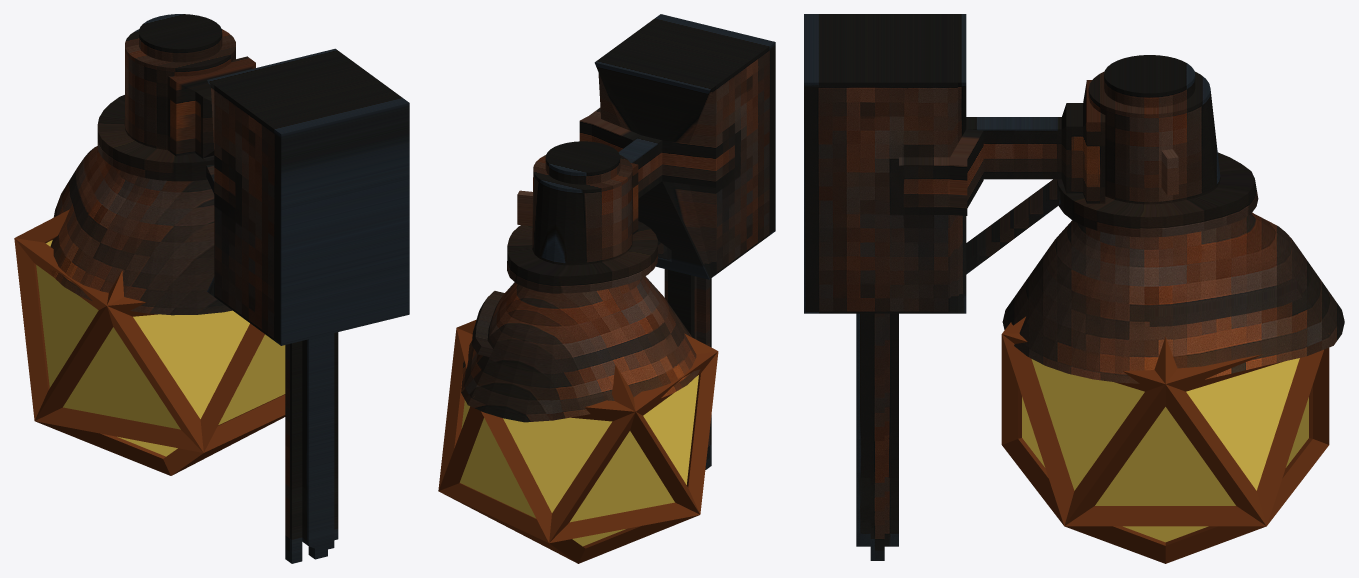
Rendered from lamp.fbx.
3 views of the same model, side by side, from view 1: azimuth 30°, elevation 25°; view 2: azimuth 150°, elevation 25°; view 3: azimuth 270°, elevation 25° (orthographic). The views are drawn at different scales.
Parts seen in each view (by area): view 1: Cube, Icosphere.001, Icosphere; view 2: Cube, Icosphere.001, Icosphere; view 3: Cube, Icosphere.001, Icosphere.
Part boxes in pixels (<box>): Cube: <box>49,14,409,563</box>; Icosphere.001: <box>14,209,285,475</box>; Icosphere: <box>36,240,285,456</box>; Cube: <box>461,14,775,469</box>; Icosphere.001: <box>438,319,718,563</box>; Icosphere: <box>460,375,698,546</box>; Cube: <box>804,14,1344,560</box>; Icosphere.001: <box>1001,316,1329,563</box>; Icosphere: <box>1022,358,1308,542</box>.
Size of the model in its own units: 47.22 by 78.75 by 74.13.
